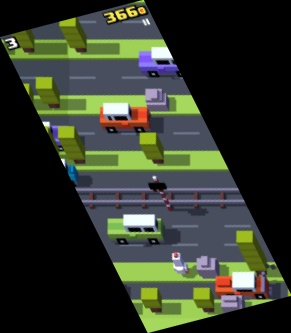car: (99, 101, 151, 133), (139, 47, 195, 76), (108, 215, 165, 243), (217, 271, 270, 300), (18, 121, 65, 148), (41, 159, 80, 185)
duck: (170, 252, 191, 276)
light off: (148, 176, 173, 214)
rail: (70, 186, 252, 209)
rock: (196, 255, 219, 279), (220, 295, 244, 317), (146, 88, 168, 110)
tree: (236, 231, 267, 276), (7, 10, 34, 53), (59, 14, 88, 52), (59, 127, 86, 167), (139, 132, 164, 165), (36, 77, 61, 108), (140, 288, 163, 312), (194, 287, 214, 312), (17, 83, 36, 109)
